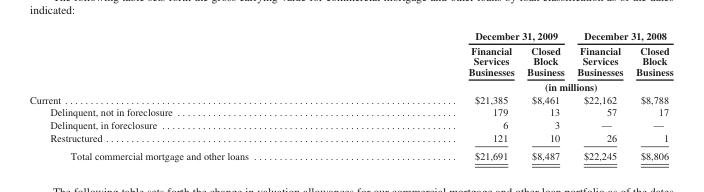table: (28, 29, 672, 161)
table column: (28, 29, 357, 161), (357, 29, 520, 161), (570, 29, 628, 161), (520, 29, 570, 161), (628, 29, 672, 161)
table column header: (28, 29, 672, 92)
table row: (28, 42, 672, 78), (28, 131, 672, 146), (28, 146, 672, 161), (28, 78, 672, 92), (28, 29, 672, 42), (28, 92, 672, 105), (28, 105, 672, 118), (28, 118, 672, 131)
table spanning cell: (357, 78, 672, 92), (357, 29, 570, 42), (570, 29, 672, 42)
